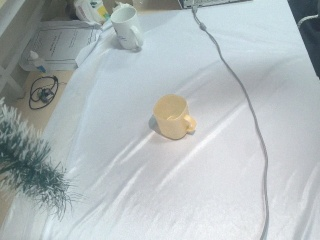cup: (151, 93, 197, 141), (109, 1, 144, 52)
